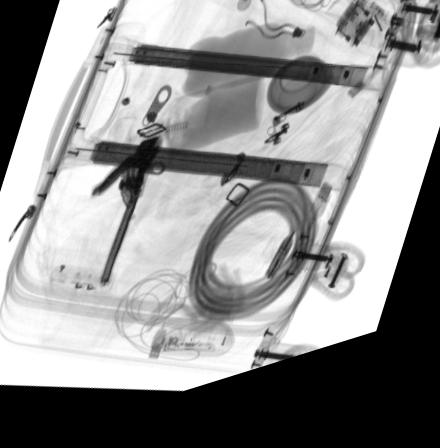Pliers: (93, 145, 159, 289)
